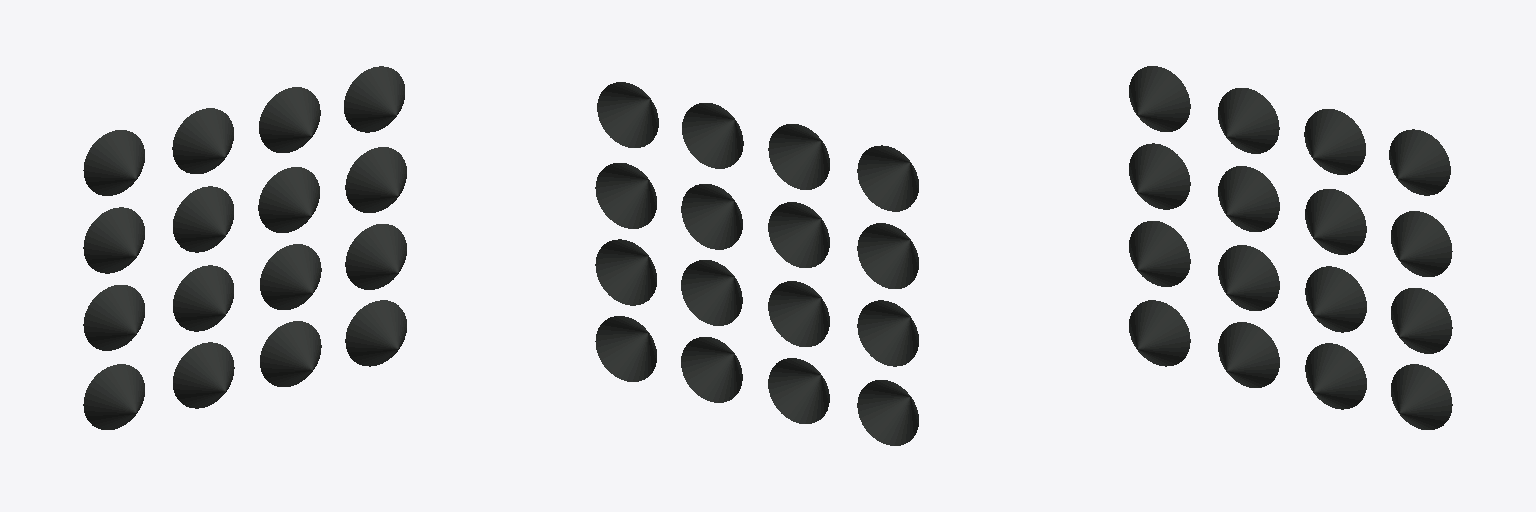
Rendered from spike.obj.
3 renders of one model, left to right at view 1: azimuth 30°, elevation 25°; view 2: azimuth 150°, elevation 25°; view 3: azimuth 330°, elevation 25°, orthographic.
Size of the model in its own units: 2.2 by 1.94 by 0.268.